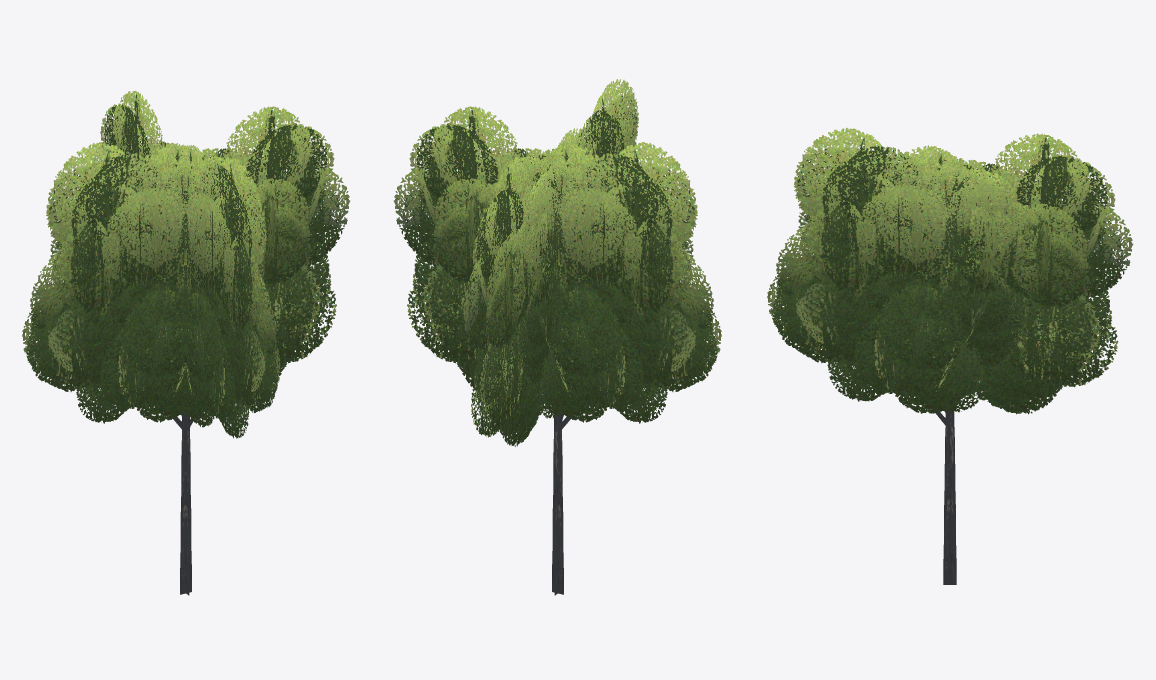
Rendered from tree_honeylocust_impostor.glb.
The picture shows the model from 3 angles, left to right: view 1: azimuth 30°, elevation 25°; view 2: azimuth 150°, elevation 25°; view 3: azimuth 270°, elevation 25°; orthographic projection. The views are drawn at different scales.
Parts seen in each view (by area): view 1: tree_honeylocust_impostor; view 2: tree_honeylocust_impostor; view 3: tree_honeylocust_impostor.
Boxes of the visible parts, x1,y1,x2,y2 form: tree_honeylocust_impostor: (22, 91, 350, 595); tree_honeylocust_impostor: (393, 79, 721, 595); tree_honeylocust_impostor: (767, 128, 1133, 584).
Bounding box in the file's own units: 9.27 × 13.09 × 9.27.
Materials: 1 (1 with a texture image).
